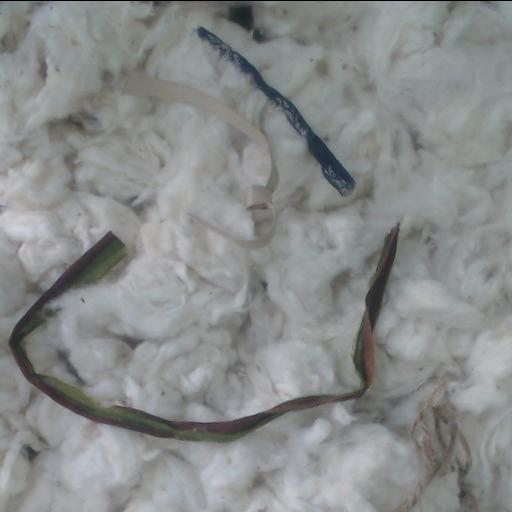cloth: (9, 226, 398, 441), (197, 27, 354, 195), (225, 4, 267, 41)
cotton: (0, 1, 511, 512)
jute: (398, 385, 469, 512)
thread: (121, 75, 278, 248)
